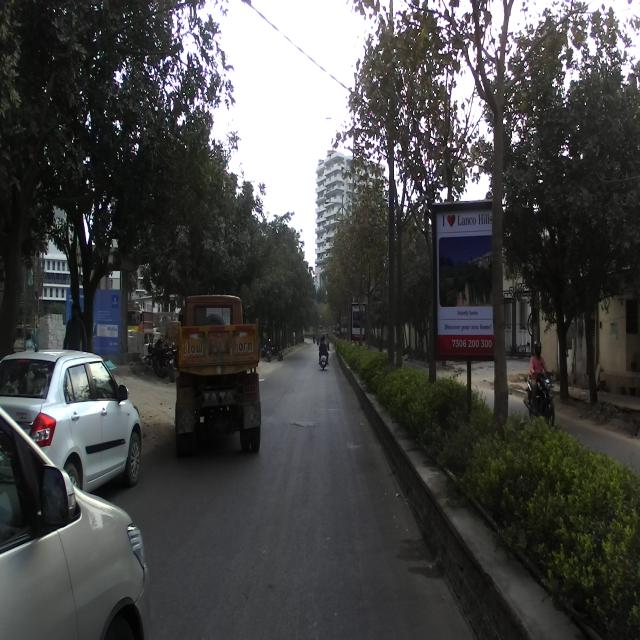car ahead at: (0, 395, 149, 640), (0, 348, 148, 490)
truck ahead at: (171, 285, 264, 473)
